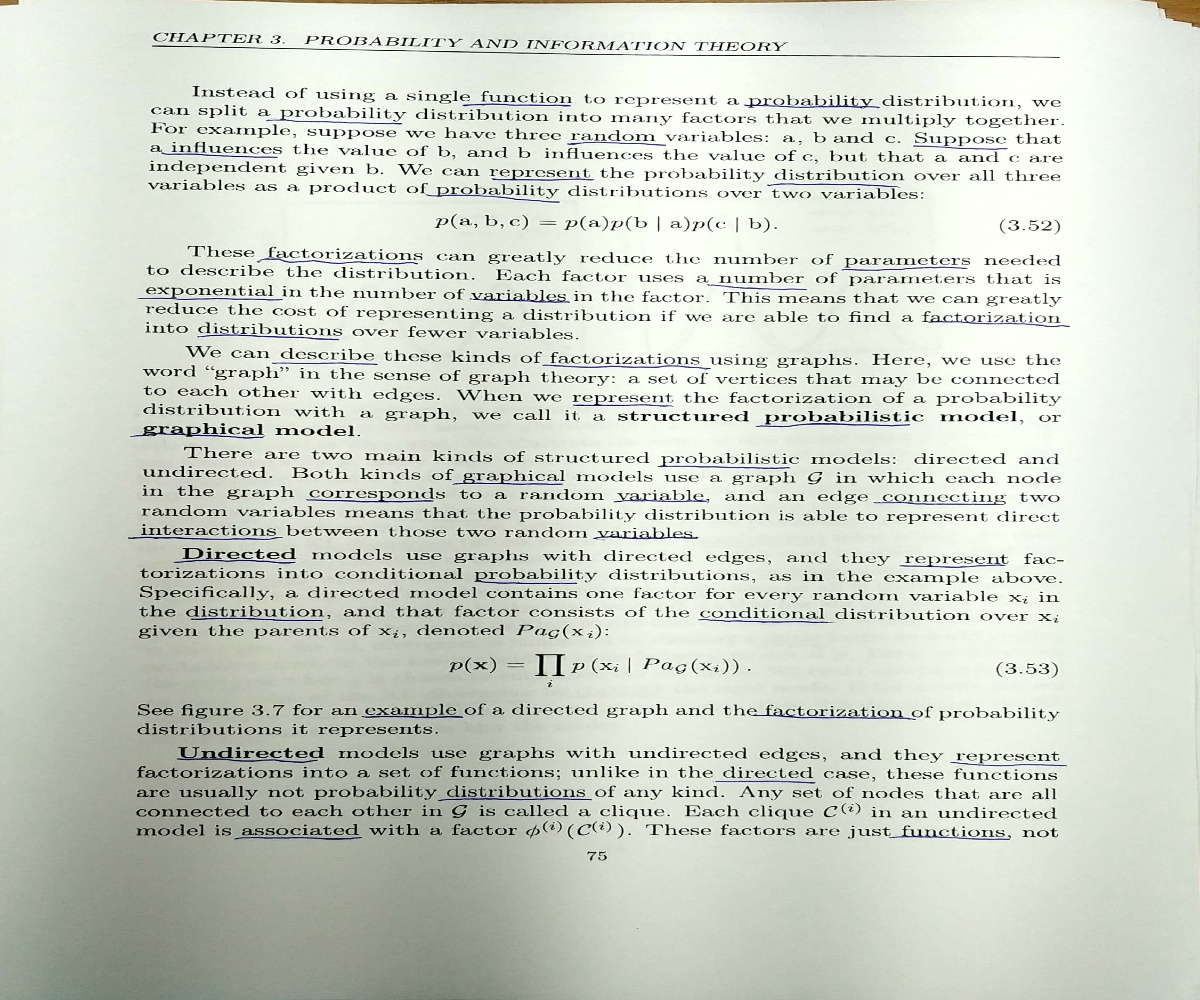underline: (257, 253, 422, 268), (540, 361, 710, 373), (752, 712, 915, 724), (423, 192, 561, 206), (137, 293, 290, 305), (696, 616, 832, 629), (157, 149, 283, 163), (195, 331, 342, 343), (922, 318, 1071, 329), (766, 178, 901, 190), (872, 498, 1007, 510), (127, 534, 288, 544), (751, 421, 916, 430), (889, 833, 1011, 845), (839, 261, 972, 272), (174, 755, 317, 765), (231, 834, 361, 845), (264, 115, 405, 125), (191, 615, 329, 625), (950, 758, 1067, 769), (491, 173, 598, 185), (435, 795, 599, 802), (742, 102, 880, 110), (174, 557, 296, 566), (129, 431, 266, 439), (656, 463, 793, 471), (271, 357, 380, 367), (898, 561, 1007, 571), (472, 578, 580, 588), (704, 282, 810, 292), (910, 143, 1009, 153), (446, 479, 568, 487), (565, 139, 670, 148), (468, 296, 573, 305), (712, 776, 817, 785), (303, 496, 435, 503), (592, 534, 702, 542), (361, 713, 467, 721), (571, 400, 673, 408), (460, 100, 570, 107), (612, 497, 711, 504)
